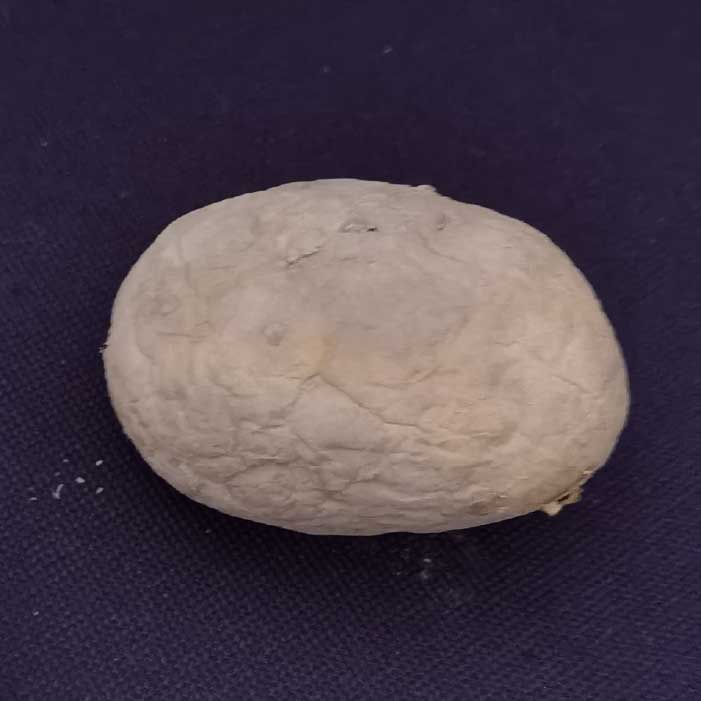Kartoffel: (102, 178, 628, 537)
